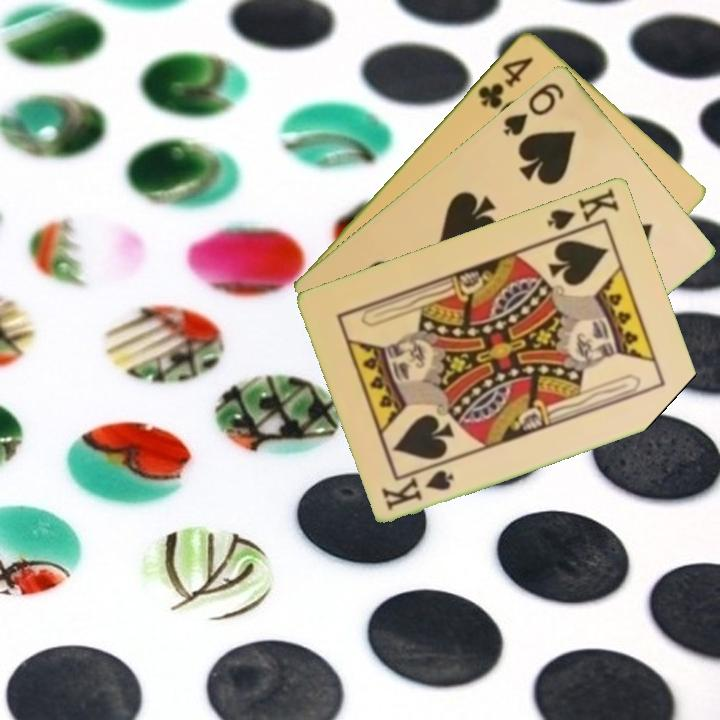4c: (474, 52, 537, 112)
6s: (500, 78, 568, 139)
Ks: (543, 183, 623, 241), (378, 465, 457, 513)
